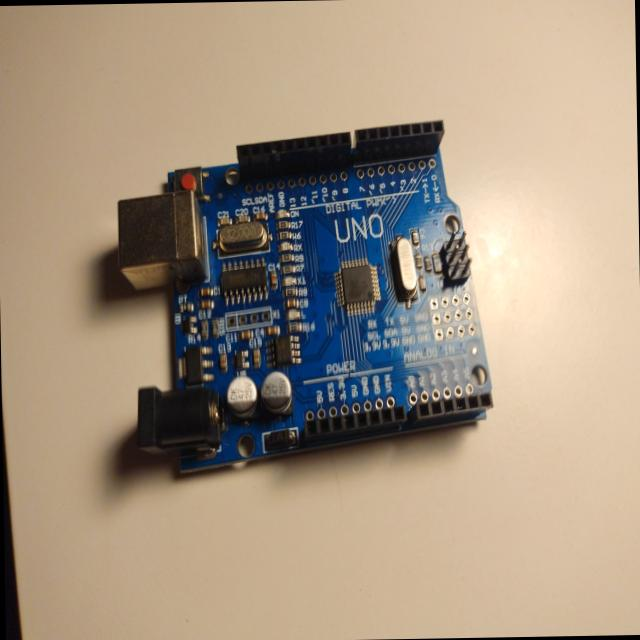arduino: (104, 111, 526, 490)
